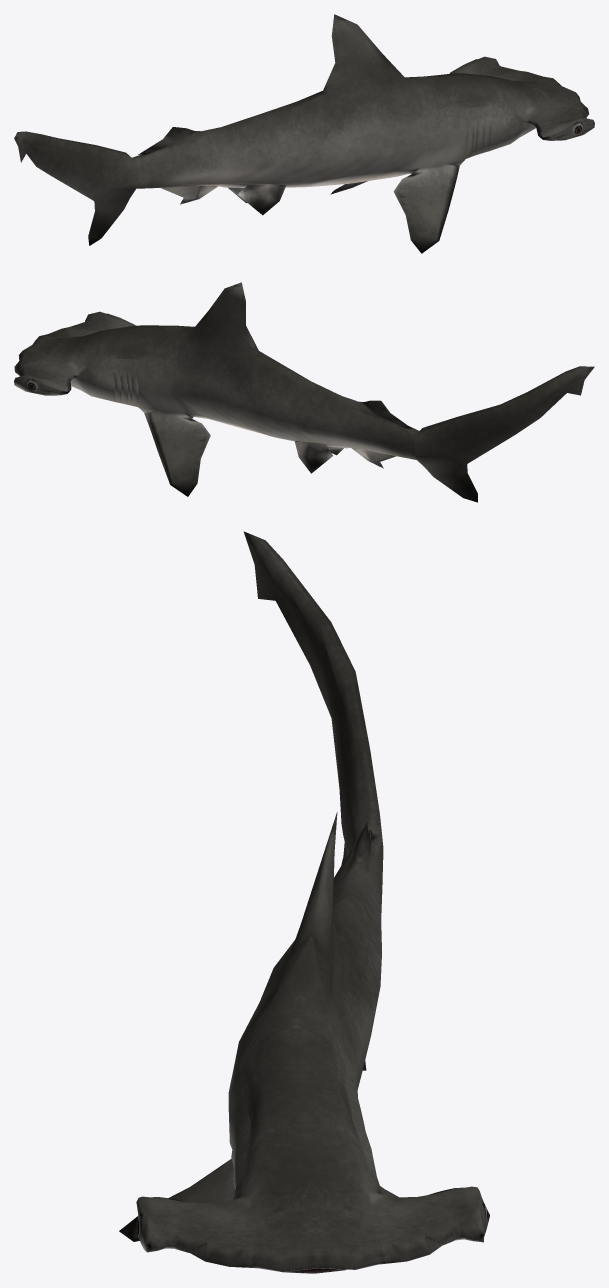
File: hammerhead.glb
3 renders of one model, top to bottom at view 1: azimuth 30°, elevation 25°; view 2: azimuth 150°, elevation 25°; view 3: azimuth 270°, elevation 25°, orthographic. The views are drawn at different scales.
Parts seen in each view (by area): view 1: Object_9; view 2: Object_9; view 3: Object_9.
Boxes of the visible parts, x1,y1,x2,y2 form: Object_9: (14,14,594,253); Object_9: (14,282,594,502); Object_9: (119,531,489,1273).
Bounding box in the file's own units: 1 × 0.347 × 0.2922.
Materials: 1 (1 with a texture image).
